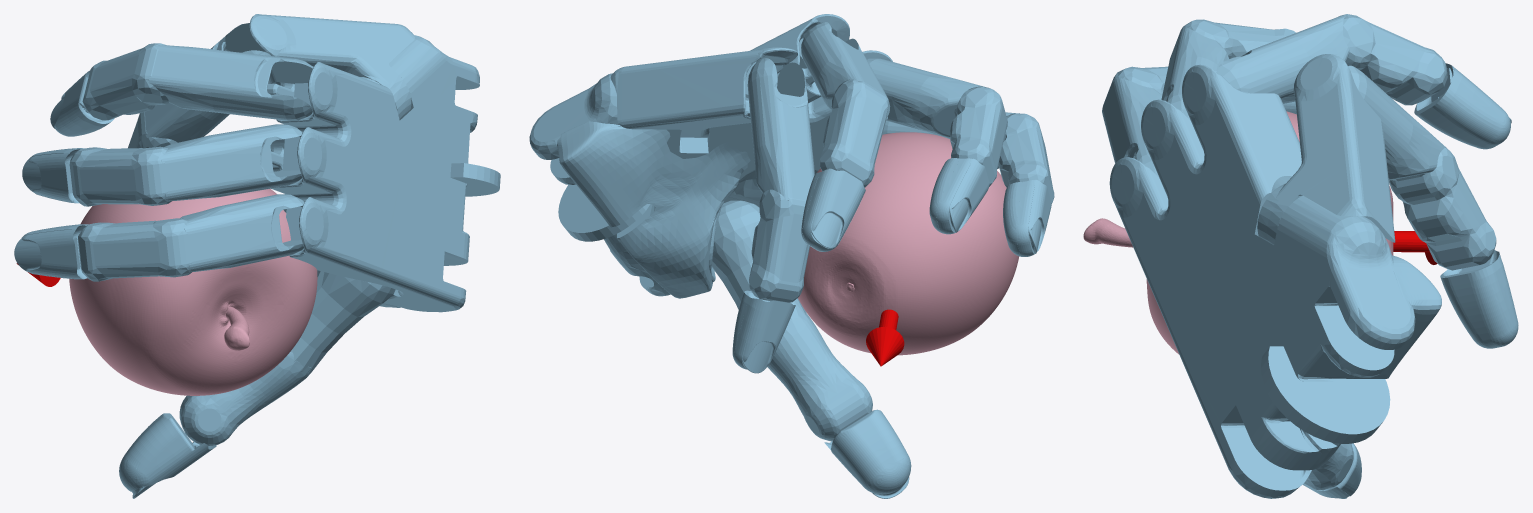
The picture shows the model from 3 angles, left to right: view 1: azimuth 30°, elevation 25°; view 2: azimuth 150°, elevation 25°; view 3: azimuth 270°, elevation 25°; orthographic projection. The views are drawn at different scales.
Visible parts, largest first — view 1: world, apple.stl; view 2: world, apple.stl; view 3: world, apple.stl.
Part boxes in pixels (bbox=[...]): world: bbox=[14, 14, 500, 498]; apple.stl: bbox=[69, 188, 317, 395]; world: bbox=[529, 14, 1054, 498]; apple.stl: bbox=[798, 132, 1019, 355]; world: bbox=[1102, 14, 1518, 498]; apple.stl: bbox=[1083, 111, 1393, 354].
Size of the model in its own units: 0.184 by 0.1587 by 0.1232.
